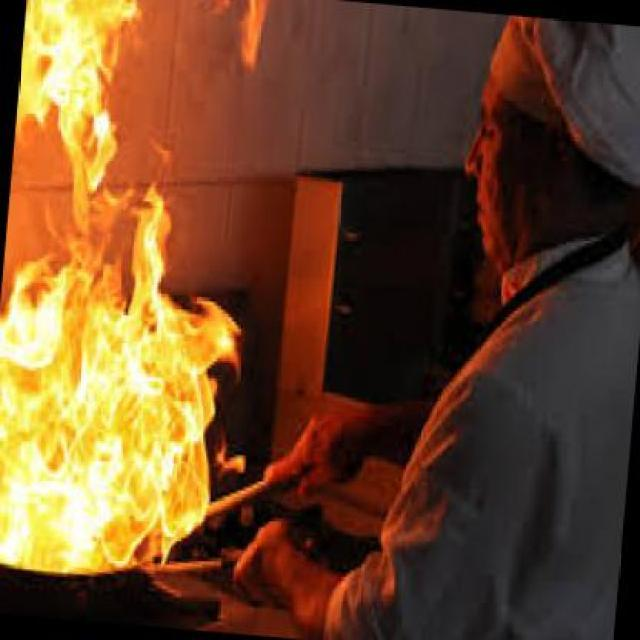Fire: (21, 0, 246, 581)
